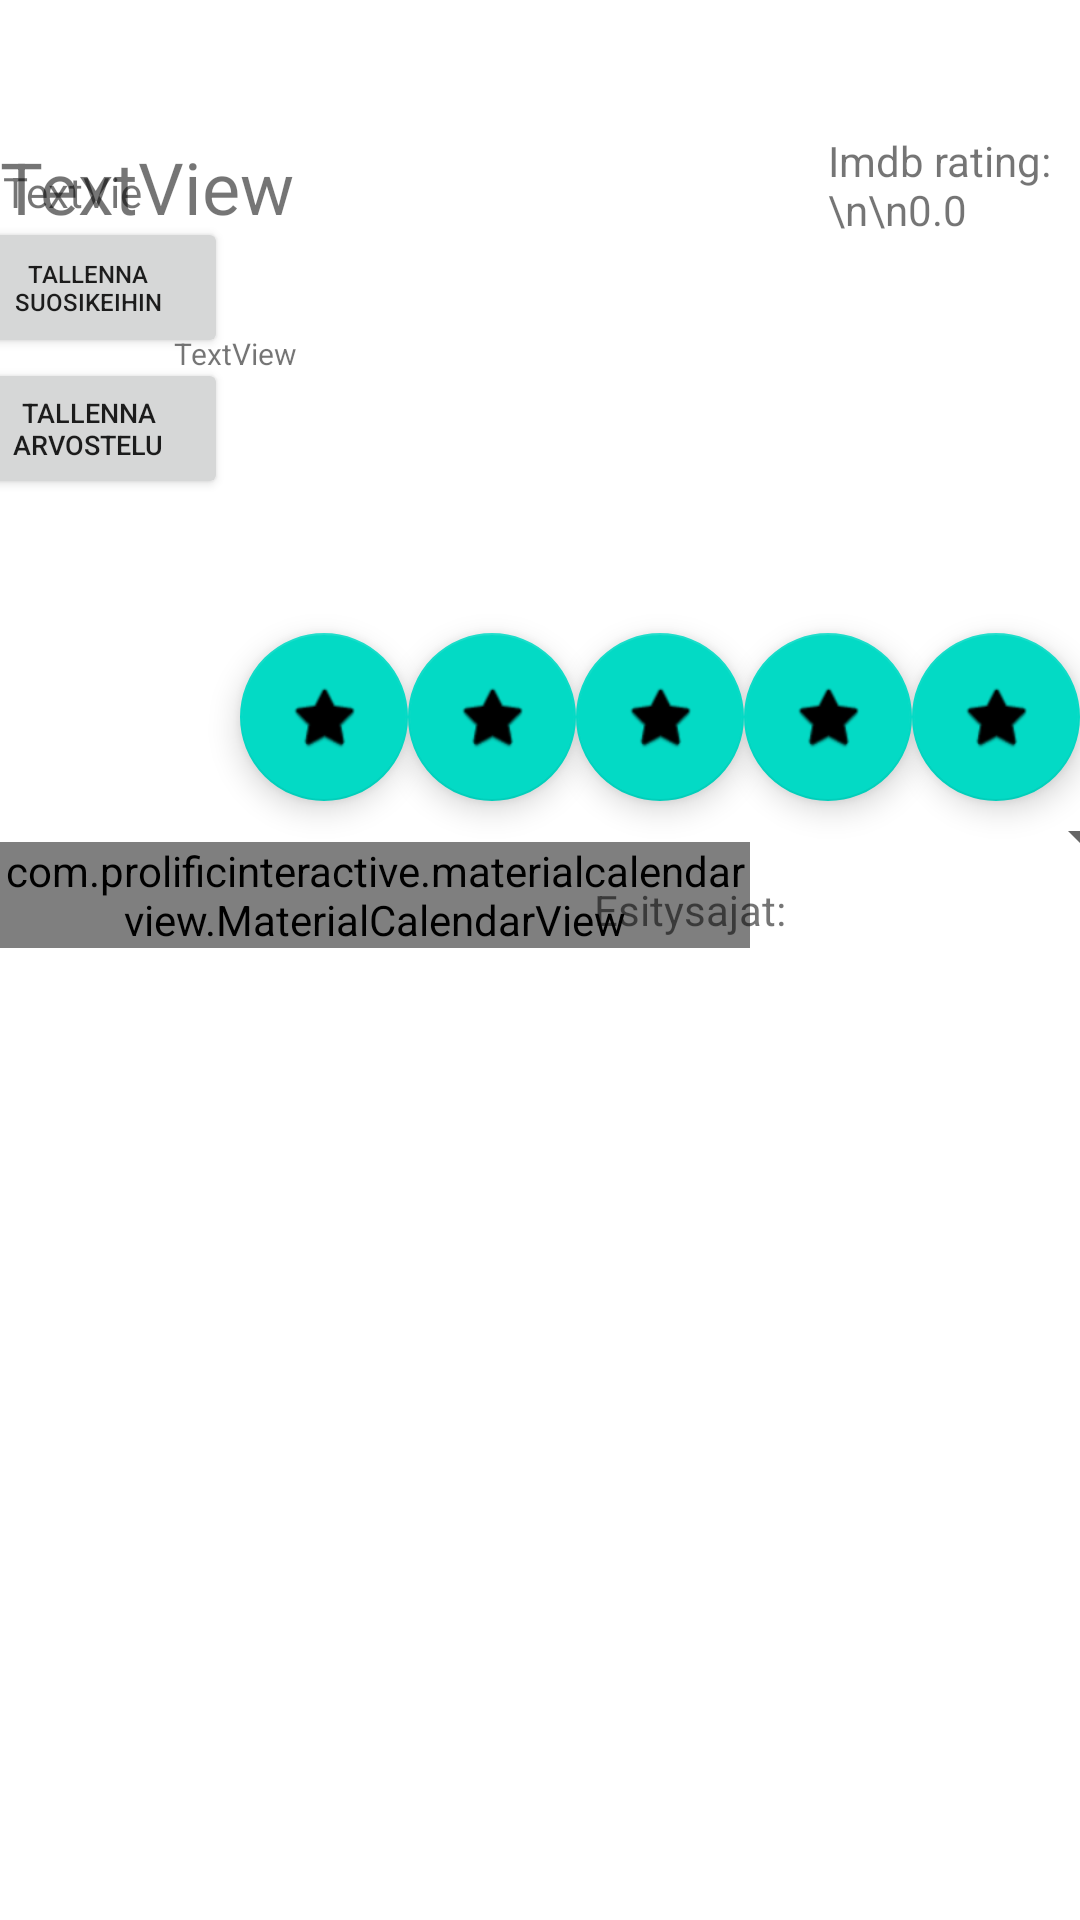

Icons on this 1080px×1920px Android screen, each with the point to tap as (x=x, y=y):
star: (x=324, y=717), (x=492, y=717), (x=660, y=717), (x=828, y=717), (x=996, y=717)
